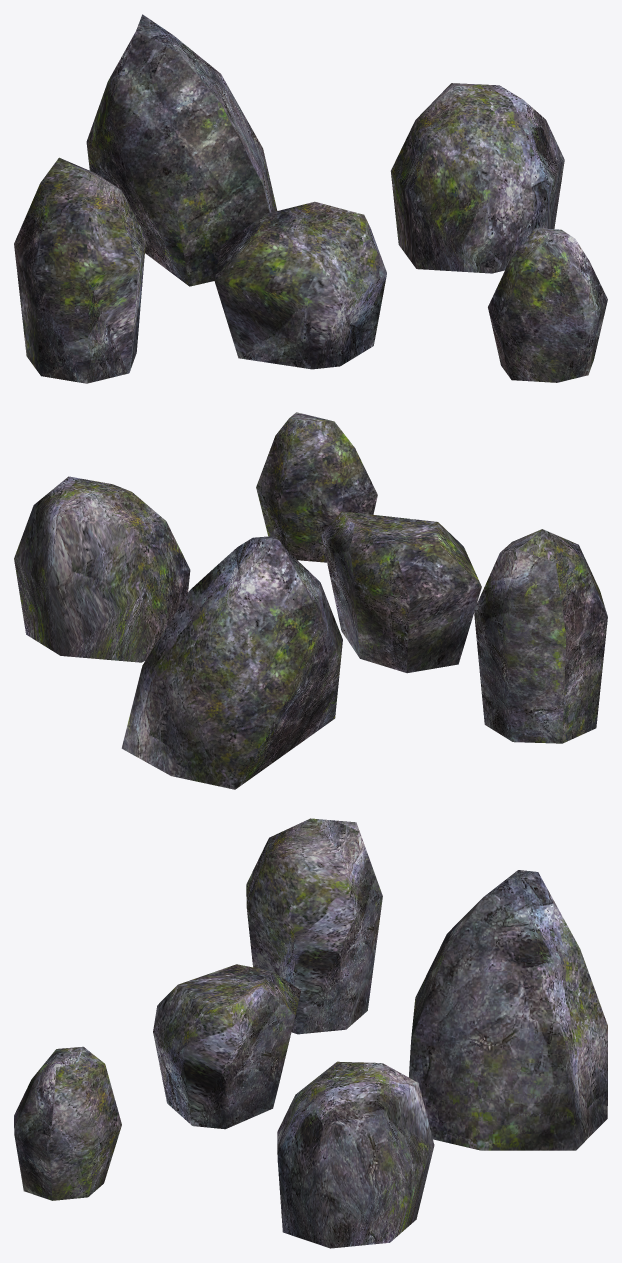
The model's file is cairn_02_03_re.glb.
3 renders of one model, top to bottom at view 1: azimuth 30°, elevation 25°; view 2: azimuth 150°, elevation 25°; view 3: azimuth 270°, elevation 25°, orthographic.
Visible parts, largest first — view 1: cairn_02_03; view 2: cairn_02_03; view 3: cairn_02_03.
Boxes of the visible parts, x1=… form: cairn_02_03: x1=14, y1=14, x2=607, y2=383; cairn_02_03: x1=14, y1=412, x2=607, y2=789; cairn_02_03: x1=14, y1=818, x2=607, y2=1248.
Size of the model in its own units: 24.76 by 9.56 by 22.93.
Materials: 1 (1 with a texture image).
